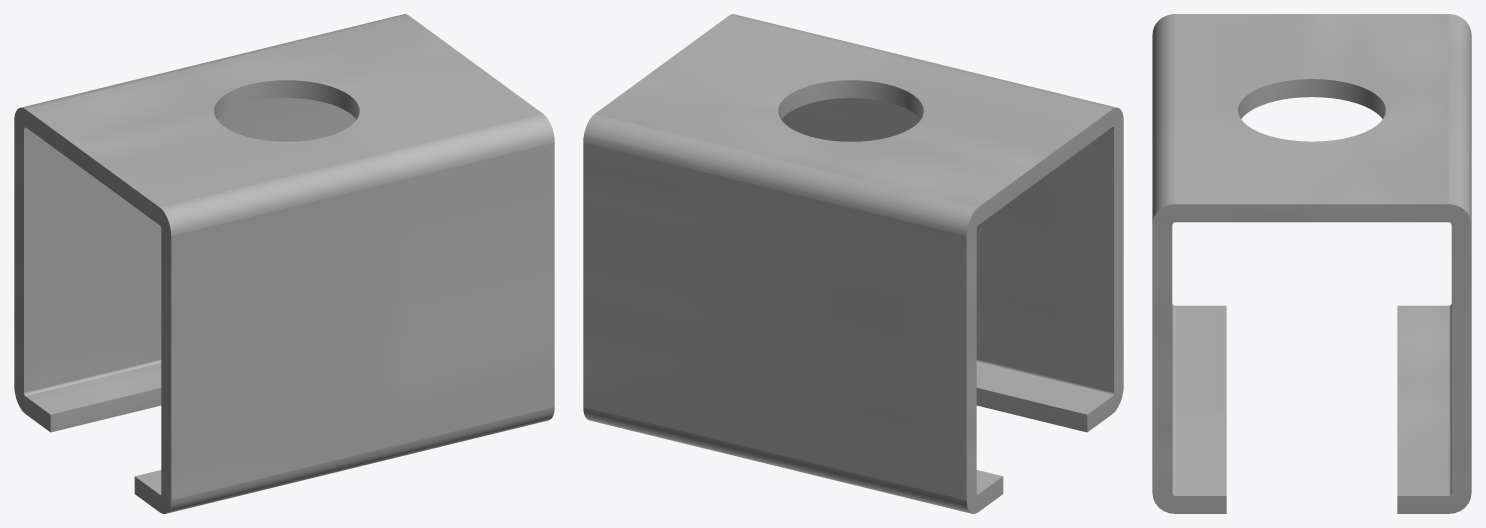
The picture shows the model from 3 angles, left to right: view 1: azimuth 30°, elevation 25°; view 2: azimuth 150°, elevation 25°; view 3: azimuth 270°, elevation 25°; orthographic projection.
Visible parts, largest first — view 1: 28_30 K; view 2: 28_30 K; view 3: 28_30 K.
Part boxes in pixels (bbox=[...]): 28_30 K: bbox=[14, 14, 554, 513]; 28_30 K: bbox=[583, 14, 1123, 513]; 28_30 K: bbox=[1152, 14, 1471, 513].
Bounding box in the file's own units: 39.5 × 30 × 28.
1 material, 1 textured.
